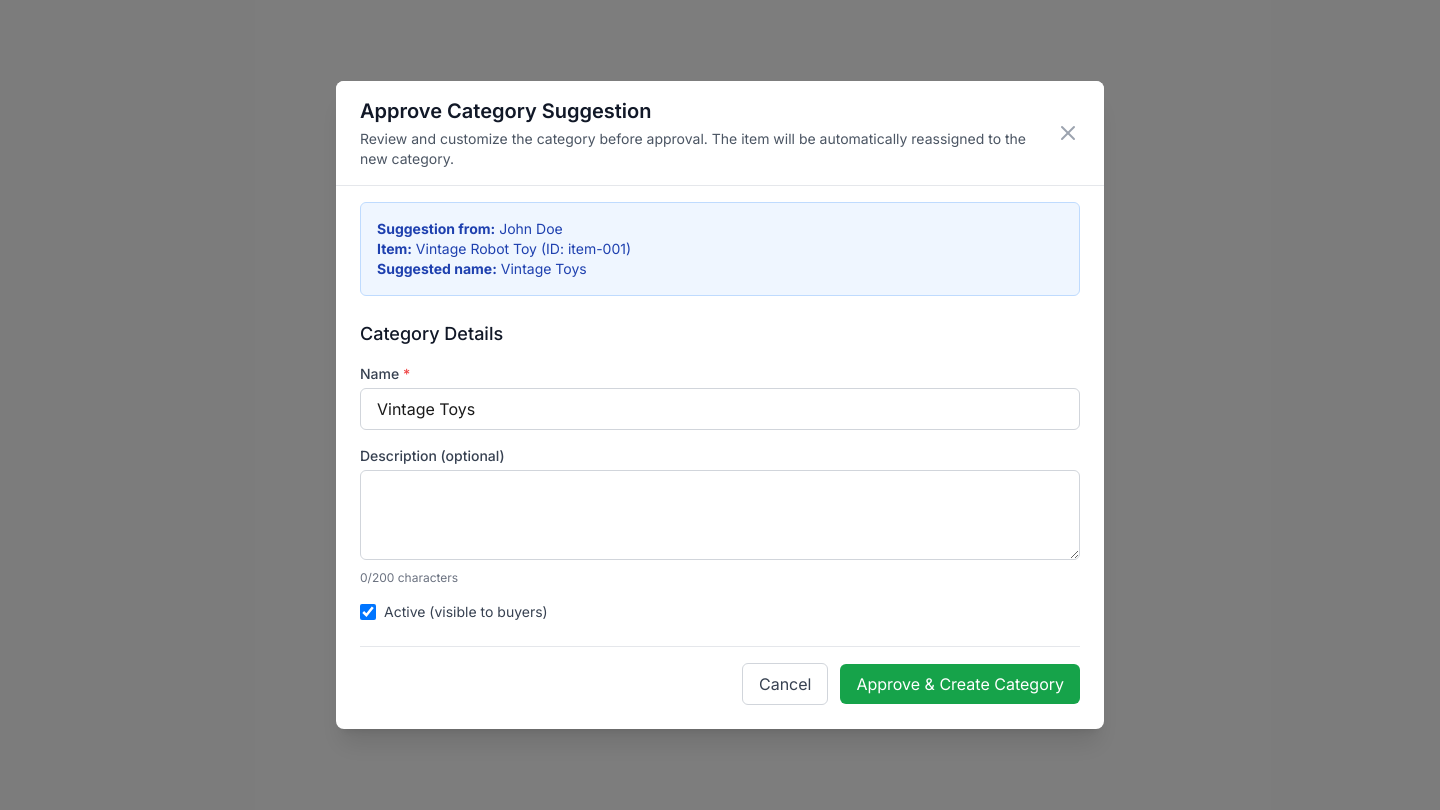
ApproveSuggestionModal › validates name length (3-50 chars)
The width and height of the screenshot is (1440, 810).
Step 1. Replace the text in the field with test id "approve-form-name" with "AB" → {"x": 720, "y": 409}, box [360,388,1080,430]
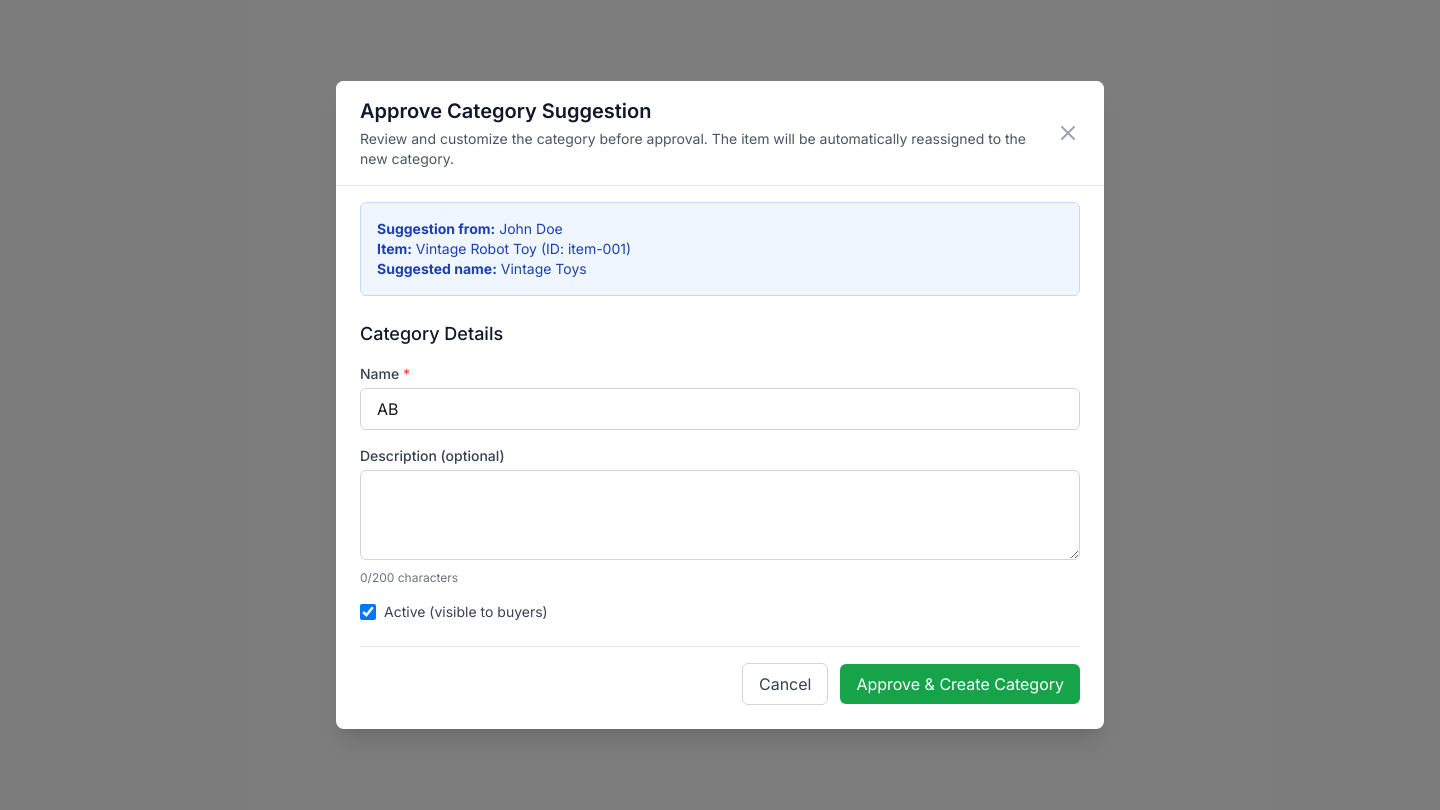
Step 2. Click the button with test id "approve-form-submit" → {"x": 960, "y": 684}, box [840,664,1080,704]
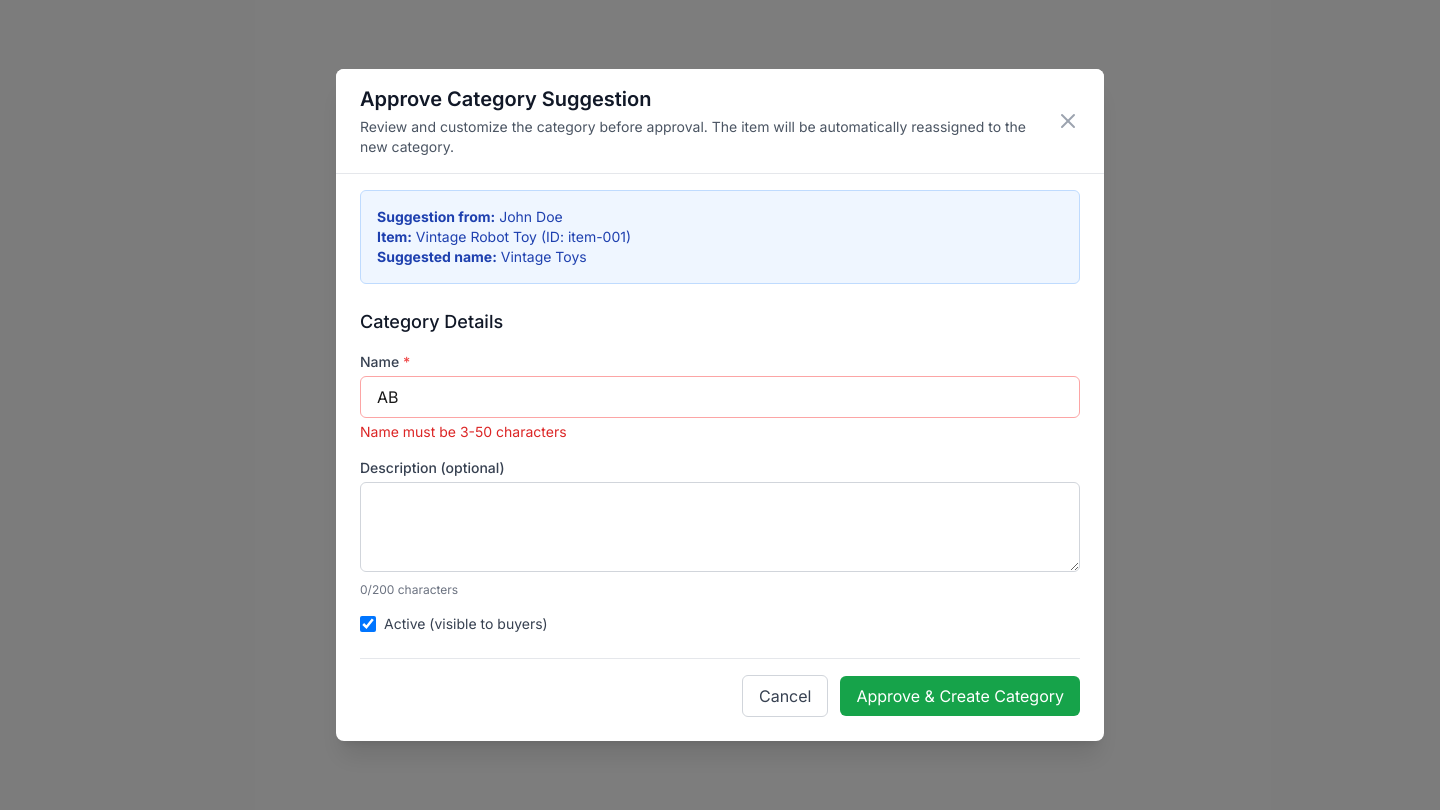
Expected: the text "Name must be 3-50 characters" is shown, [360,423,567,440]
